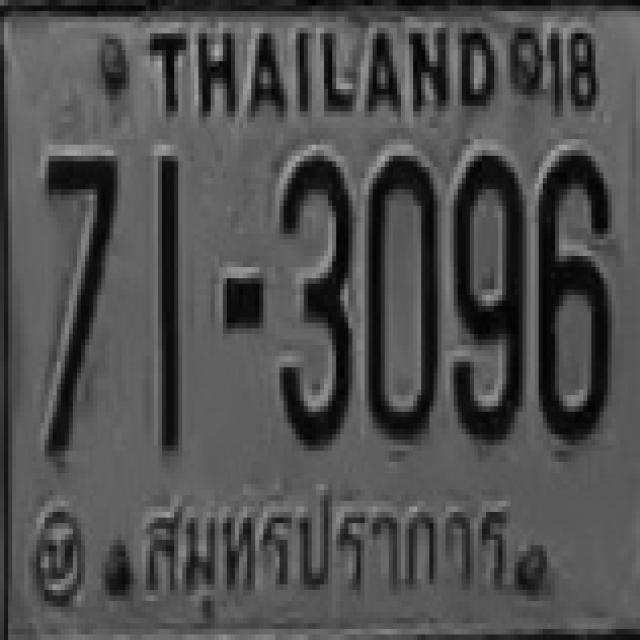0: (364, 150, 438, 440)
1: (158, 156, 178, 406)
3: (276, 153, 348, 442)
6: (534, 150, 608, 440)
7: (41, 150, 114, 440), (41, 150, 114, 368), (41, 150, 114, 345)
9: (450, 150, 522, 440)
SamutPrakan: (130, 471, 515, 622)
